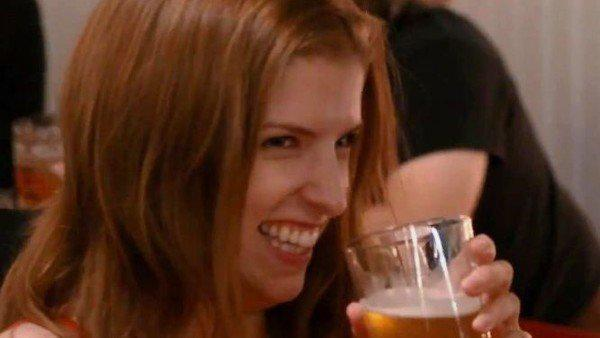Drunk: (240, 47, 356, 299)
